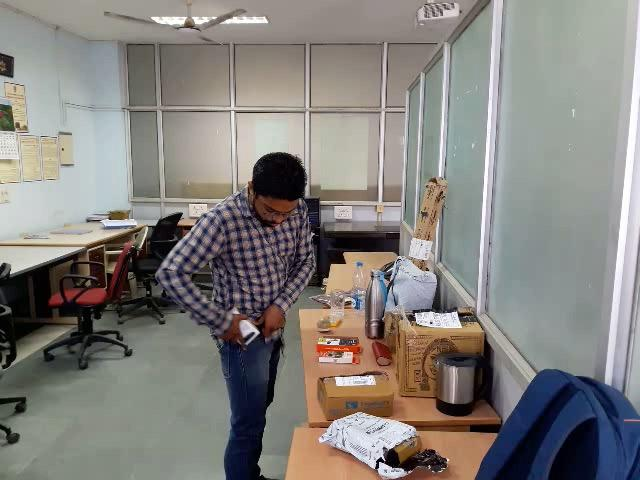shoplifting: (130, 259, 355, 478)
